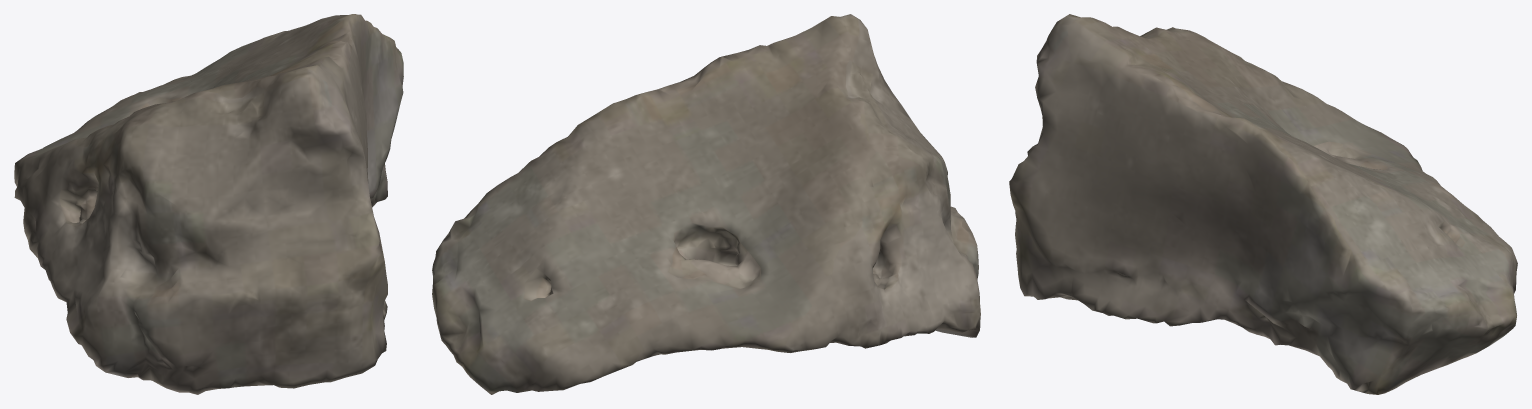
Rendered from moon_rock_06.glb.
The picture shows the model from 3 angles, left to right: view 1: azimuth 30°, elevation 25°; view 2: azimuth 150°, elevation 25°; view 3: azimuth 270°, elevation 25°; orthographic projection. The views are drawn at different scales.
Visible parts, largest first — view 1: moon_rock_06_LOD0; view 2: moon_rock_06_LOD0; view 3: moon_rock_06_LOD0.
Part boxes in pixels (<box>): moon_rock_06_LOD0: <box>14,14,403,394</box>; moon_rock_06_LOD0: <box>432,14,980,394</box>; moon_rock_06_LOD0: <box>1009,14,1517,394</box>.
Size of the model in its own units: 0.0857 by 0.055 by 0.0918.
Materials: 1 (1 with a texture image).
